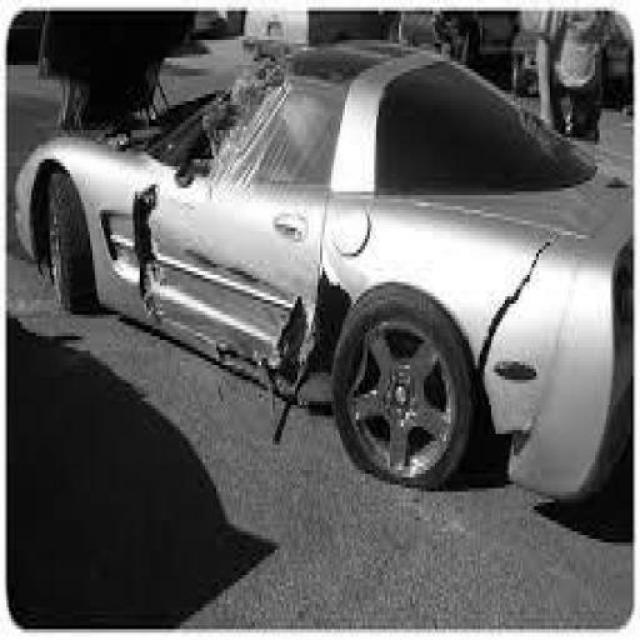crush: (125, 43, 561, 484)
